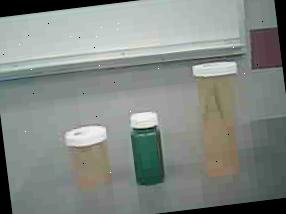Bottle A: (183, 53, 259, 188)
Bottle B: (58, 114, 120, 198)
Bottle C: (120, 101, 177, 196)
